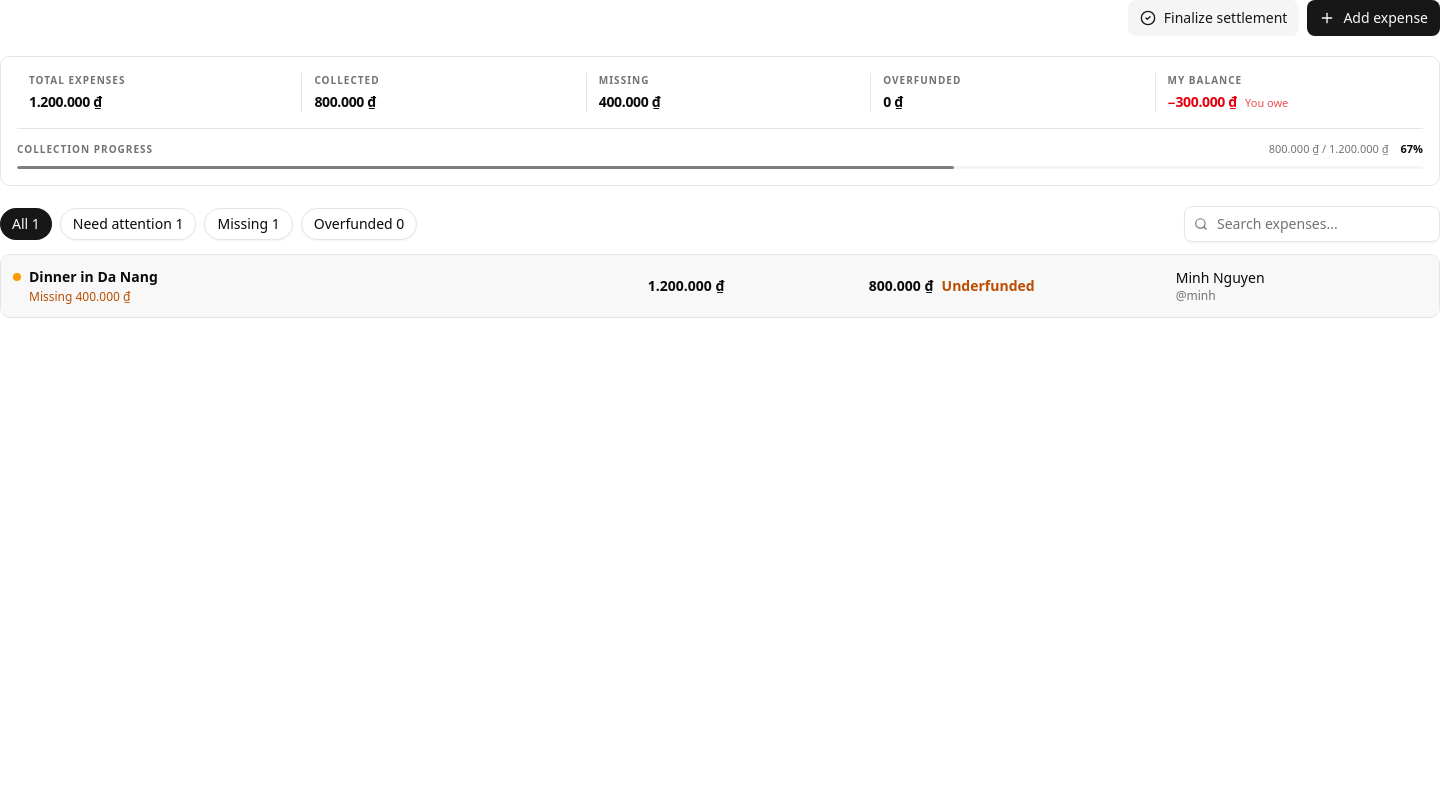
Test: ExpensesTab › normalizes comma-grouped contribution input and rejects VND decimal fractions
Click the button "Dinner in Da Nang".
click(720, 286)  # box [1,254,1439,316]
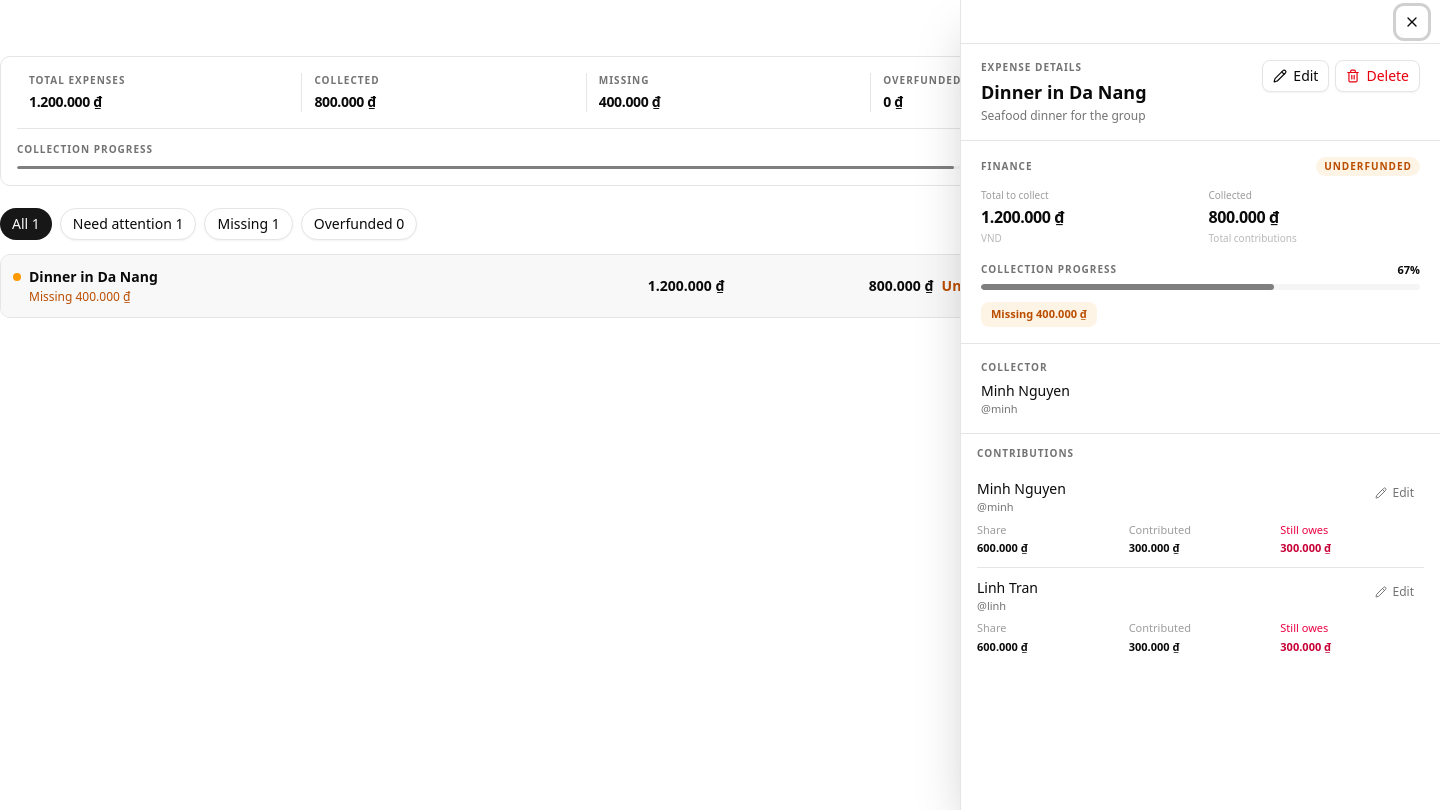
Now the text "Linh Tran" is shown, box [977,578,1038,598]
Click the button with aria-label "Edit contribution for Linh Tran".
click(1394, 592)  # box [1364,578,1424,606]
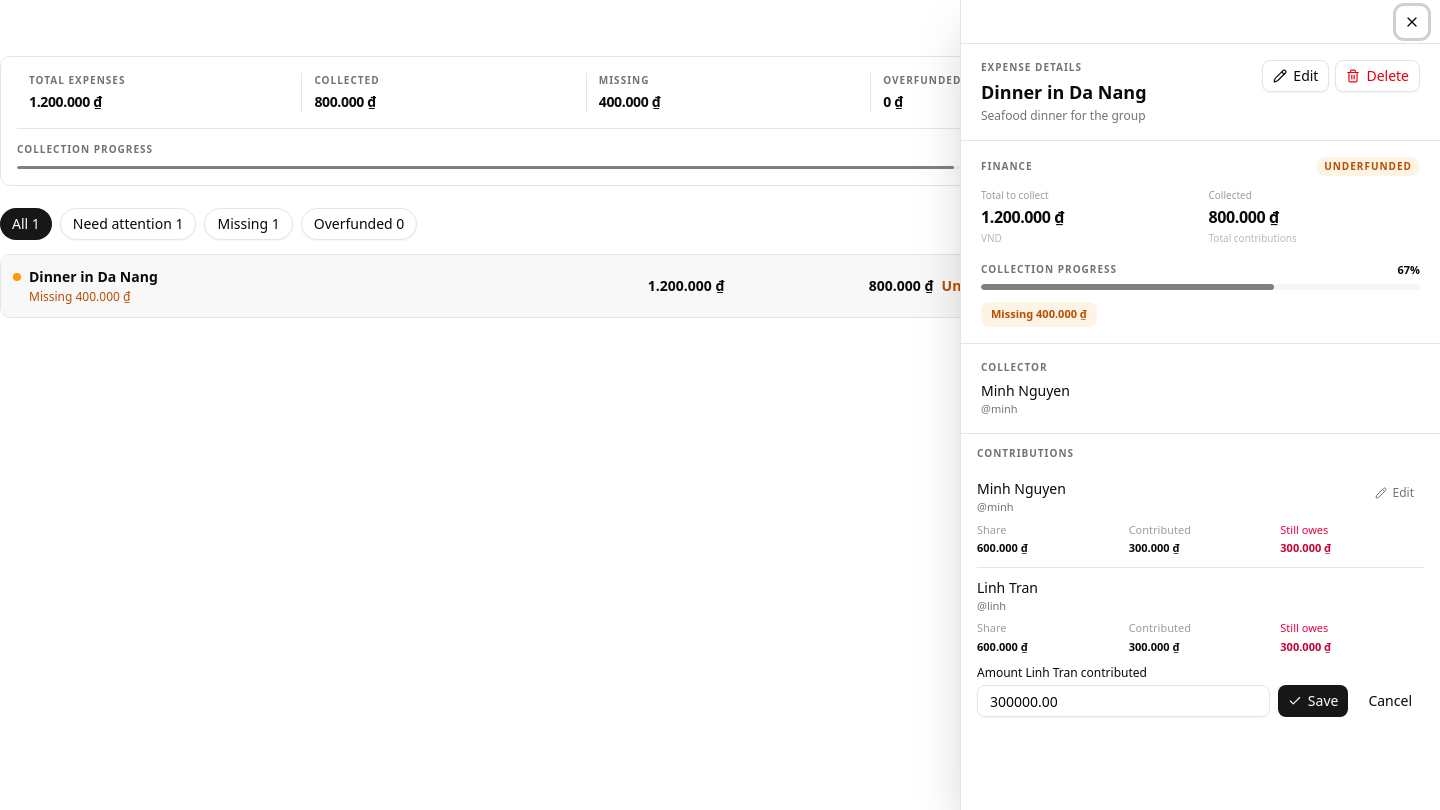
Replace the text in the field labelled "Amount Linh Tran contributed" with "1,500,000" at (1123, 701), box [977,685,1270,717]
Click the button with aria-label "Save contribution for Linh Tran".
click(1313, 701)  # box [1278,685,1348,717]
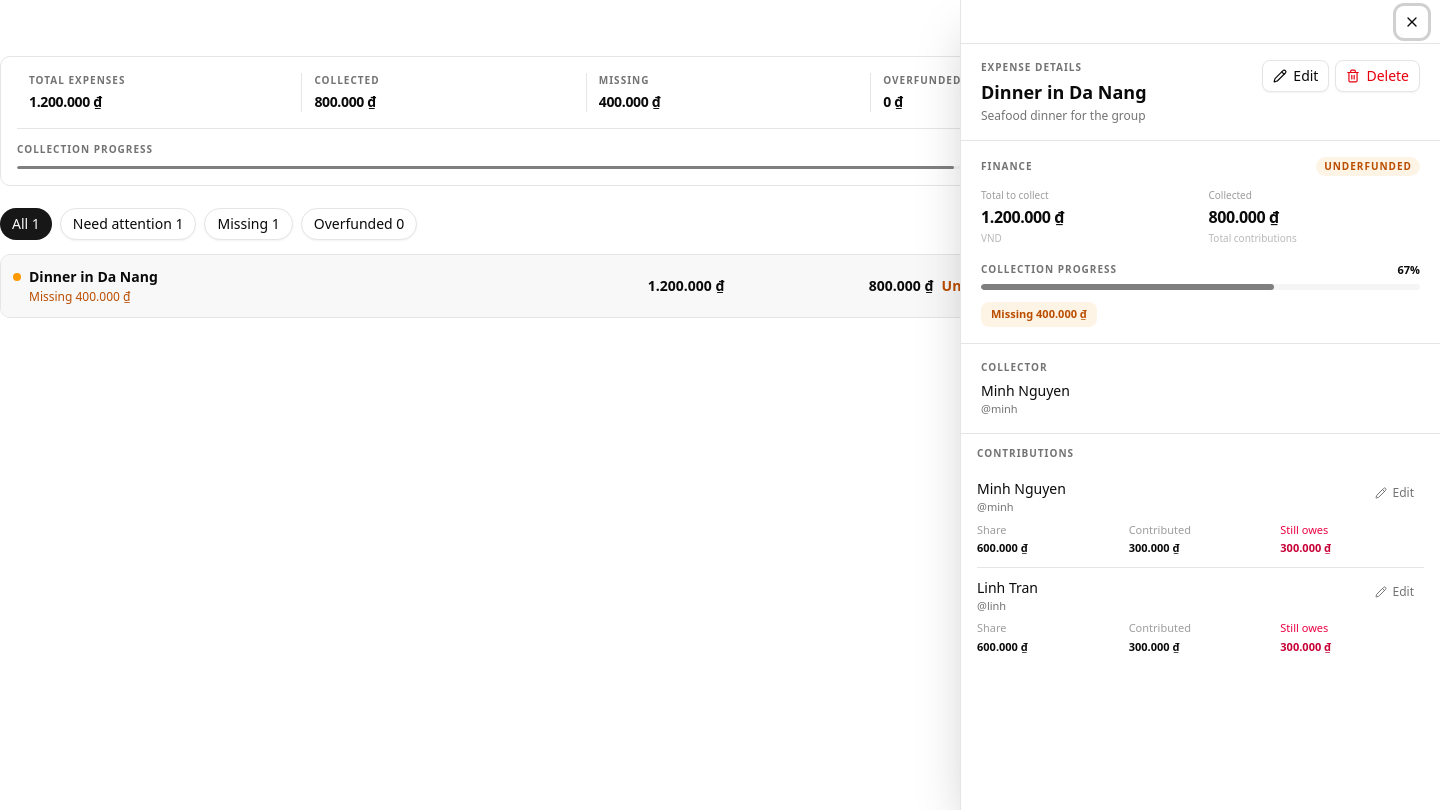
Click the button with aria-label "Edit contribution for Linh Tran".
click(1394, 592)  # box [1364,578,1424,606]
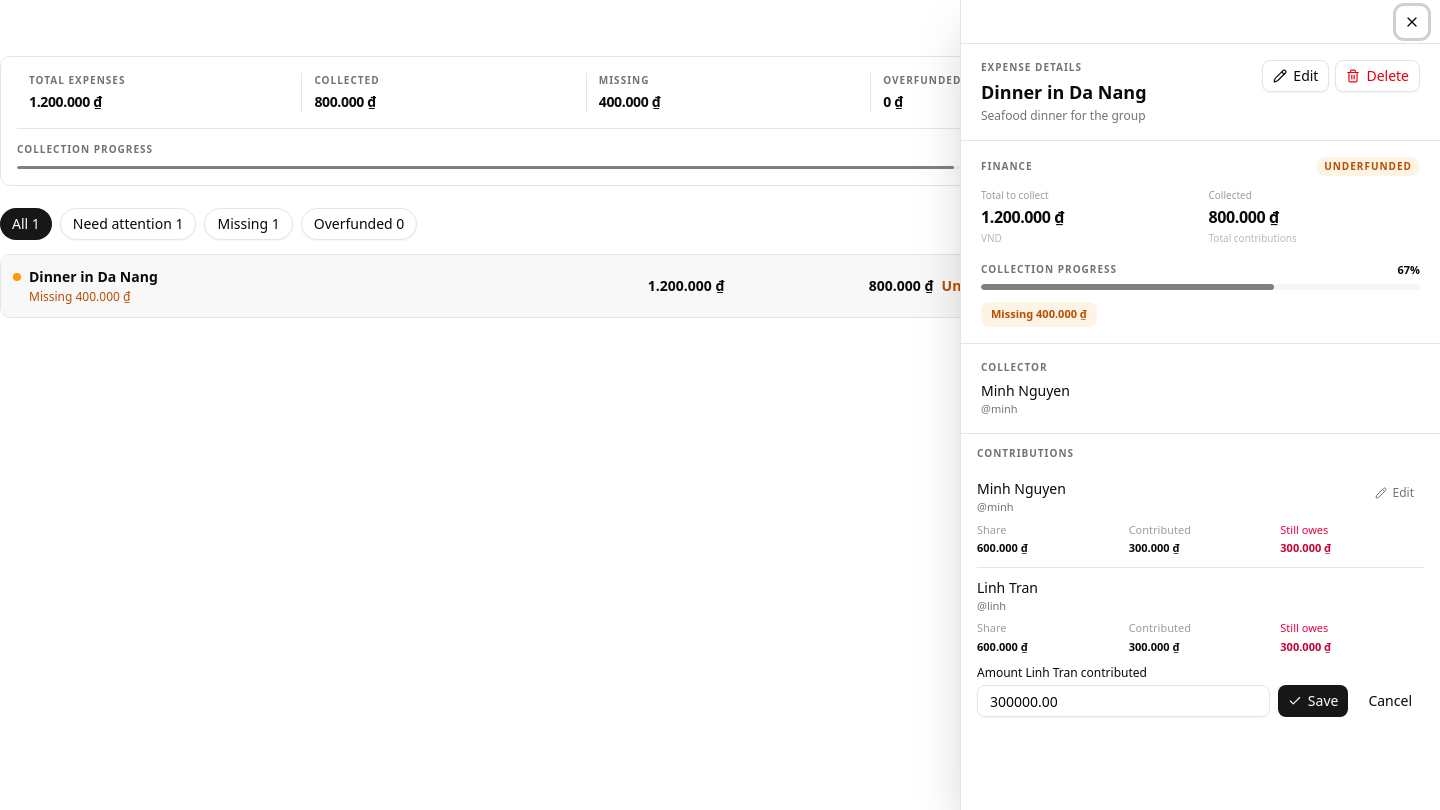
Replace the text in the field labelled "Amount Linh Tran contributed" with "1500000.50" at (1123, 701), box [977,685,1270,717]
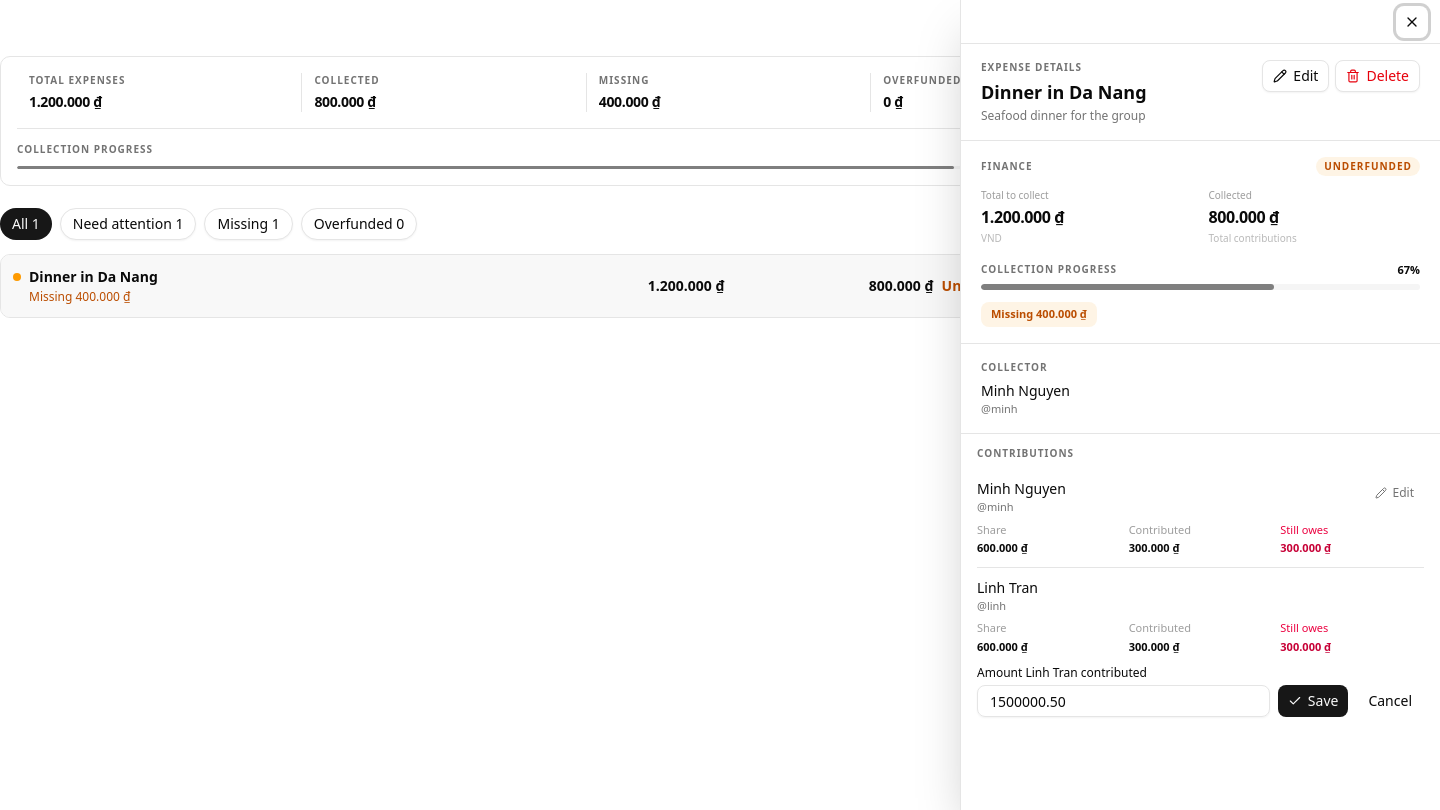
Click the button with aria-label "Save contribution for Linh Tran".
click(1313, 701)  # box [1278,685,1348,717]
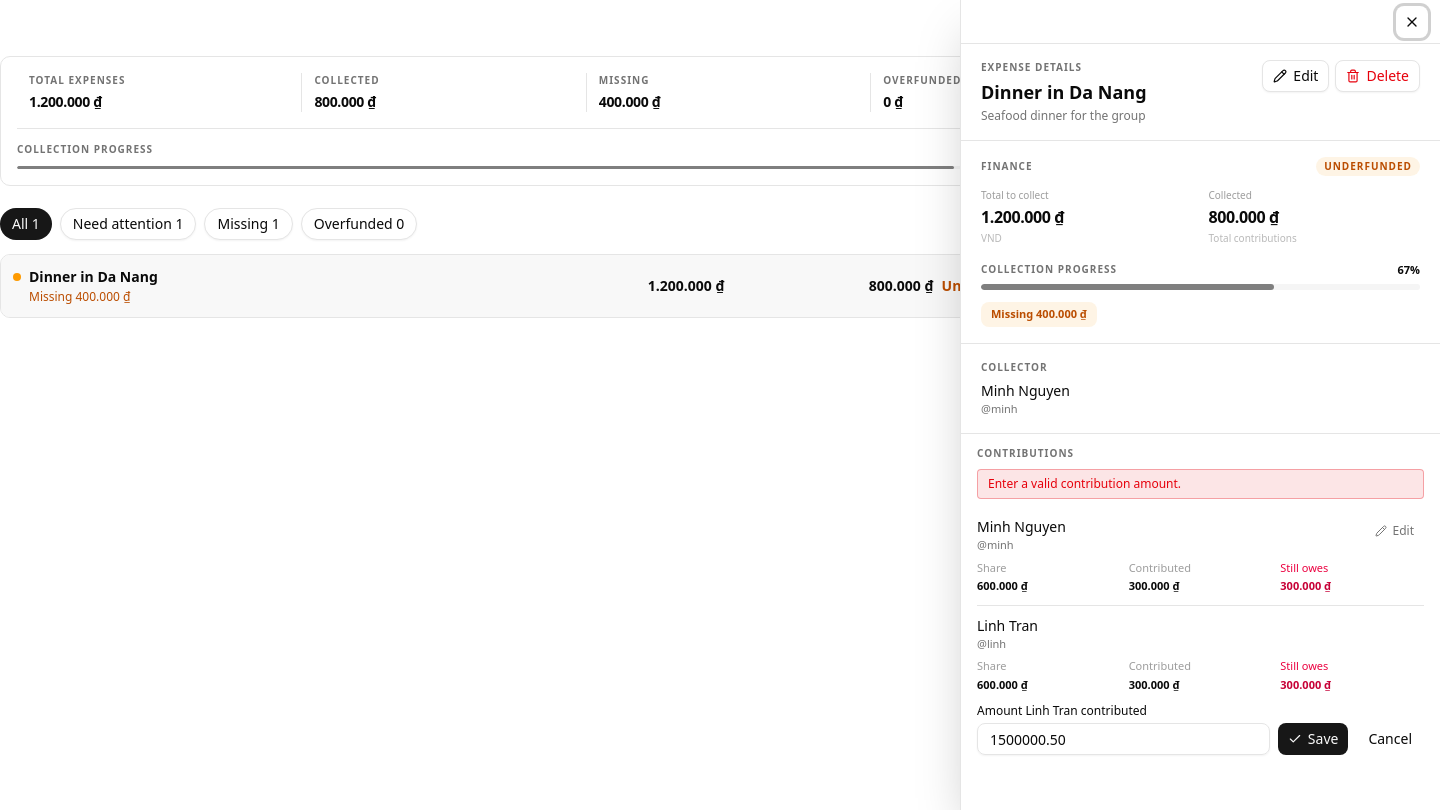
Now the text "Enter a valid contribution amount." is shown, box [977,469,1424,499]
